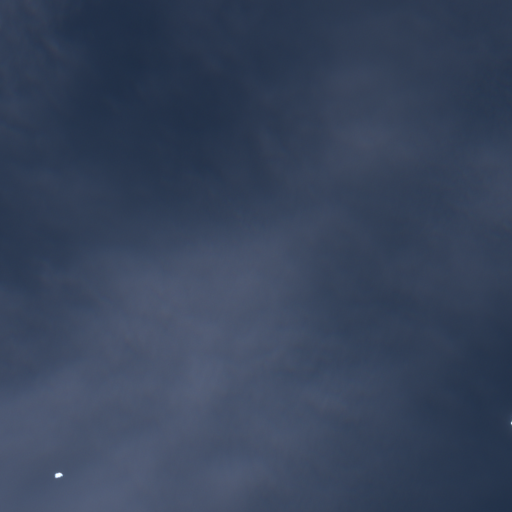Iceberg: (55, 472, 62, 477)
